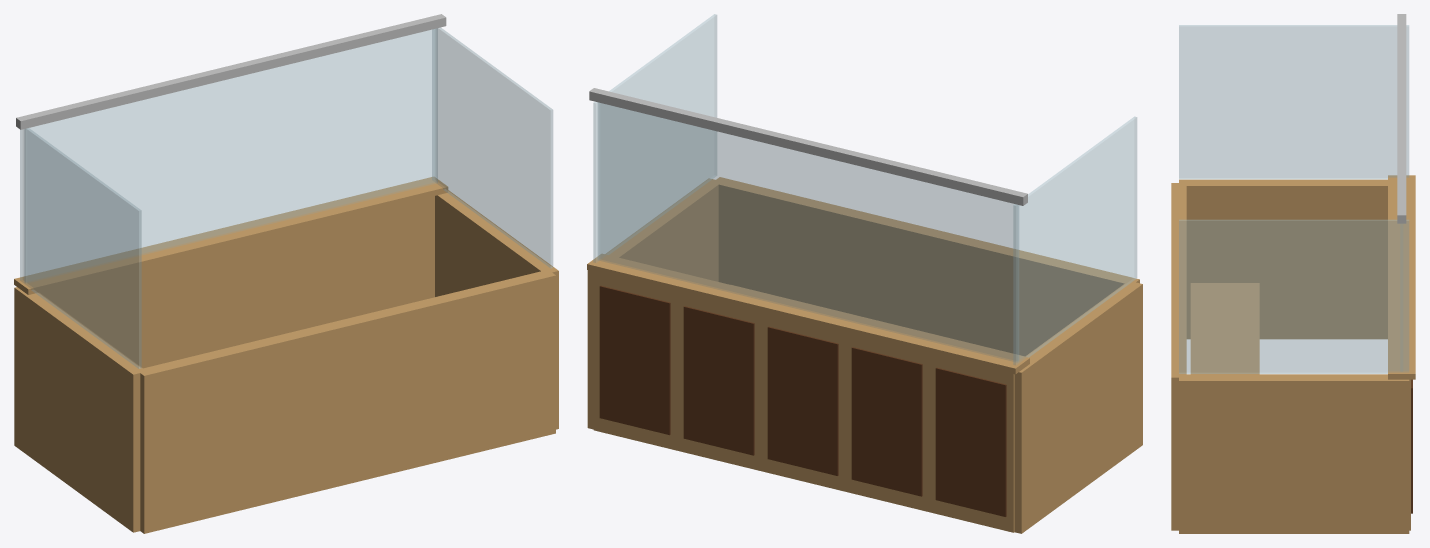
File: justice.court.dock.glb
3 views of the same model, side by side, from view 1: azimuth 30°, elevation 25°; view 2: azimuth 150°, elevation 25°; view 3: azimuth 270°, elevation 25° (orthographic). The views are drawn at different scales.
Parts seen in each view (by area): view 1: main__glulam, main__glass, main__steel_stainless; view 2: main__glulam, main__glass, main__hardwood, main__steel_stainless; view 3: main__glulam, main__glass, main__steel_stainless.
Boxes of the visible parts, <box> form: main__glulam: <box>14,177,558,533</box>; main__glass: <box>20,27,552,368</box>; main__steel_stainless: <box>16,14,446,129</box>; main__glulam: <box>587,177,1142,533</box>; main__glass: <box>593,14,1136,364</box>; main__hardwood: <box>599,285,1006,516</box>; main__steel_stainless: <box>589,88,1027,205</box>; main__glulam: <box>1171,175,1415,533</box>; main__glass: <box>1179,25,1408,373</box>; main__steel_stainless: <box>1397,14,1406,223</box>.
Bounding box in the file's own units: 3.1 × 2.29 × 1.59.
